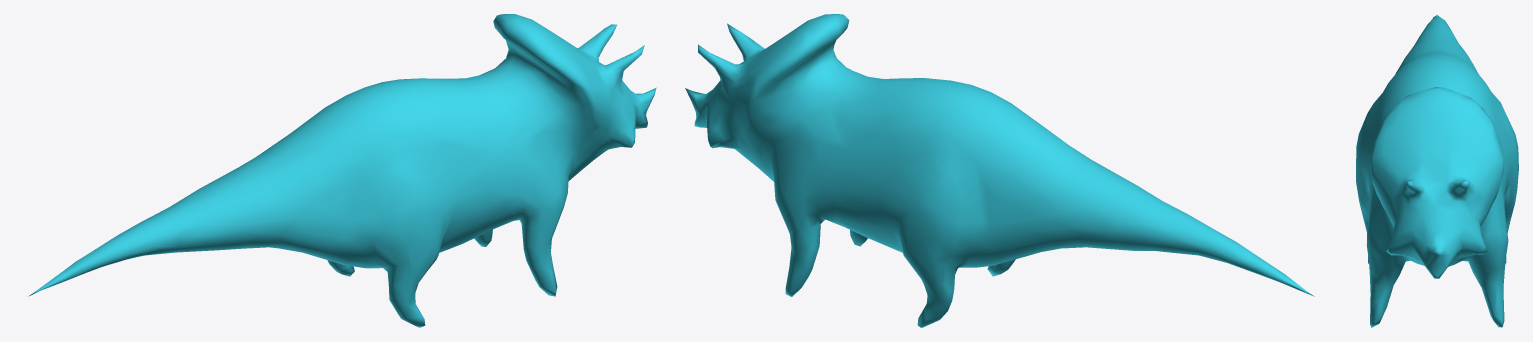
File: trix.glb
3 views of the same model, side by side, from view 1: azimuth 30°, elevation 25°; view 2: azimuth 150°, elevation 25°; view 3: azimuth 270°, elevation 25° (orthographic). The views are drawn at different scales.
Parts seen in each view (by area): view 1: Icosphere; view 2: Icosphere; view 3: Icosphere.
Boxes of the visible parts, x1=… form: Icosphere: x1=28, y1=14, x2=656, y2=327; Icosphere: x1=685, y1=14, x2=1314, y2=327; Icosphere: x1=1356, y1=15, x2=1518, y2=327.
Size of the model in its own units: 11.23 by 4.22 by 2.64.
